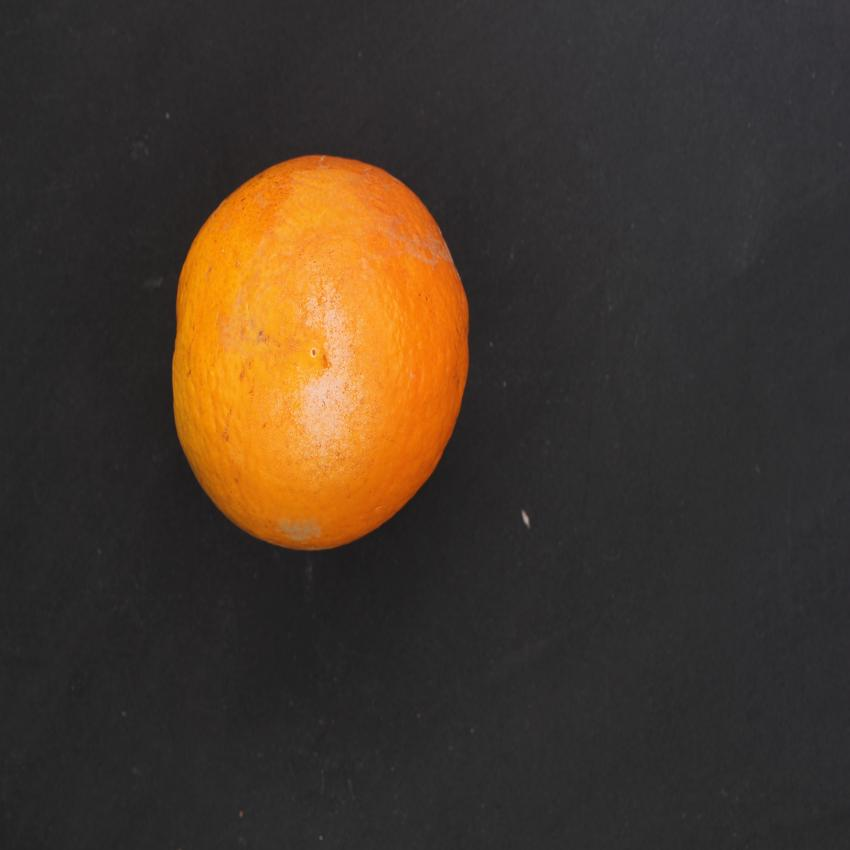Mal estado: (162, 135, 504, 578)
